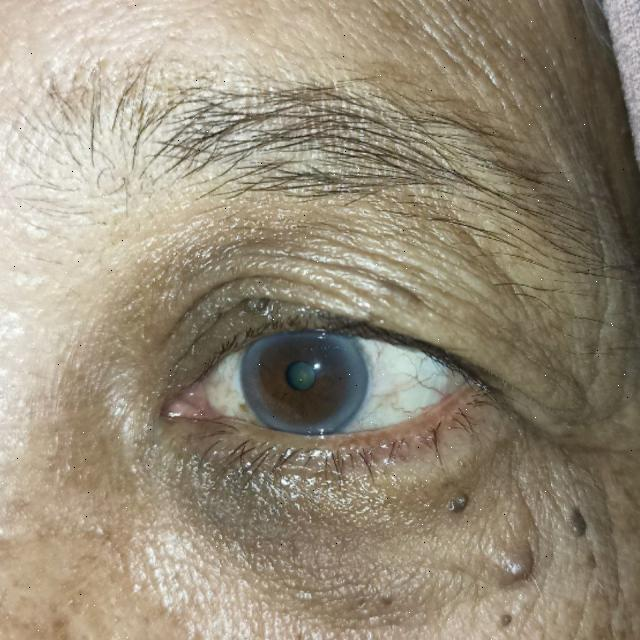Cataract: (243, 314, 367, 442)
